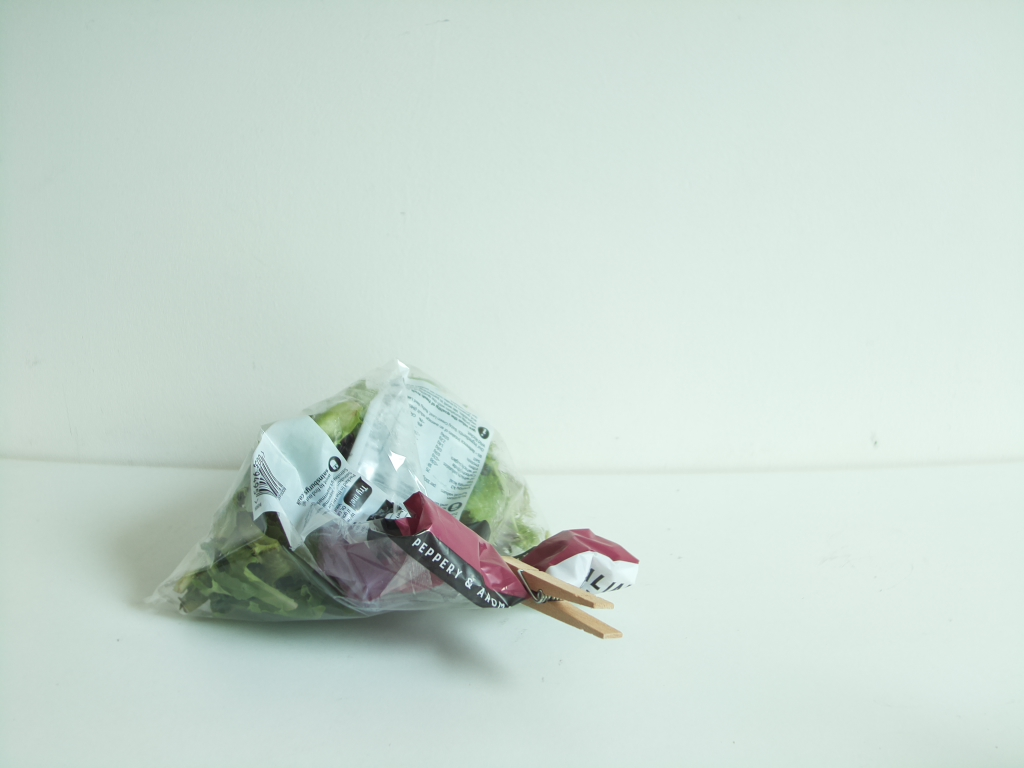salad: (149, 370, 640, 610)
